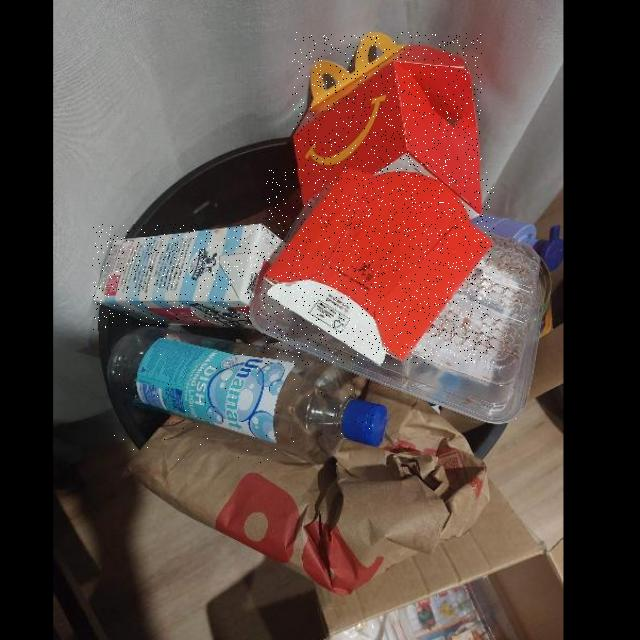paper: (293, 33, 482, 277), (264, 168, 494, 365), (93, 224, 304, 331)
plastic: (108, 326, 388, 465)
